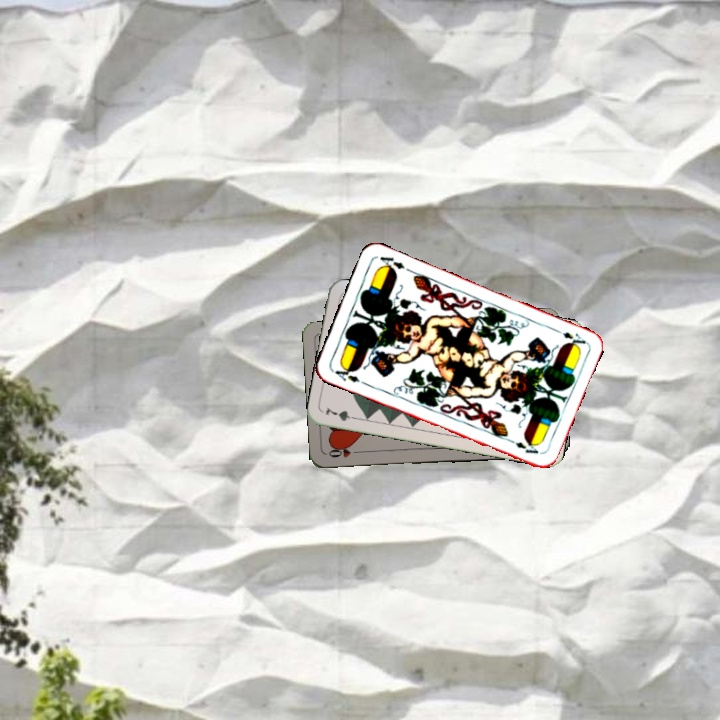EA: (329, 361, 362, 385), (558, 328, 589, 350)
G7: (321, 403, 362, 424)
HO: (325, 444, 365, 460)
